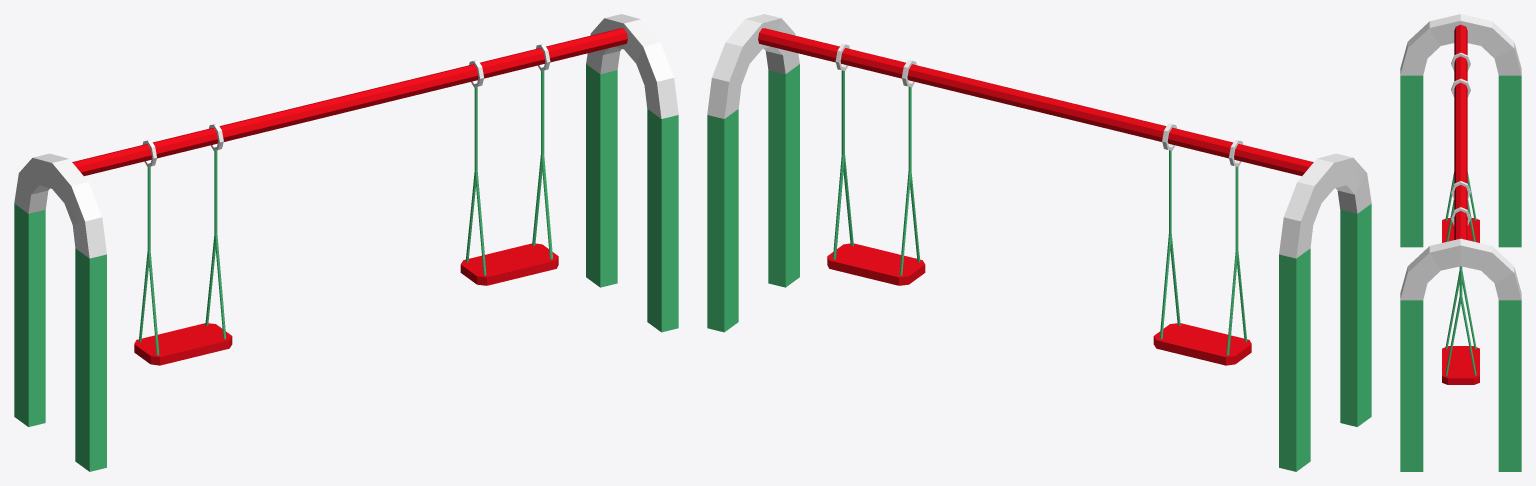
The model's file is SM_Chainsaw.fbx.
3 views of the same model, side by side, from view 1: azimuth 30°, elevation 25°; view 2: azimuth 150°, elevation 25°; view 3: azimuth 270°, elevation 25° (orthographic). The views are drawn at different scales.
Parts seen in each view (by area): view 1: SM_Chainsaw; view 2: SM_Chainsaw; view 3: SM_Chainsaw.
Boxes of the visible parts, <box> form: SM_Chainsaw: <box>14,14,678,471</box>; SM_Chainsaw: <box>707,14,1371,471</box>; SM_Chainsaw: <box>1400,14,1521,471</box>.
Size of the model in its own units: 1430 by 653 by 317.
